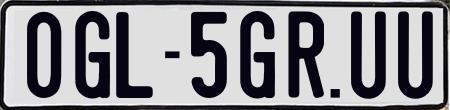0: (24, 10, 59, 97)
5: (191, 11, 229, 98)
G: (240, 8, 281, 97), (75, 11, 113, 102)
L: (113, 12, 150, 100)
R: (288, 11, 326, 101)
U: (348, 10, 385, 102), (397, 11, 434, 101)
